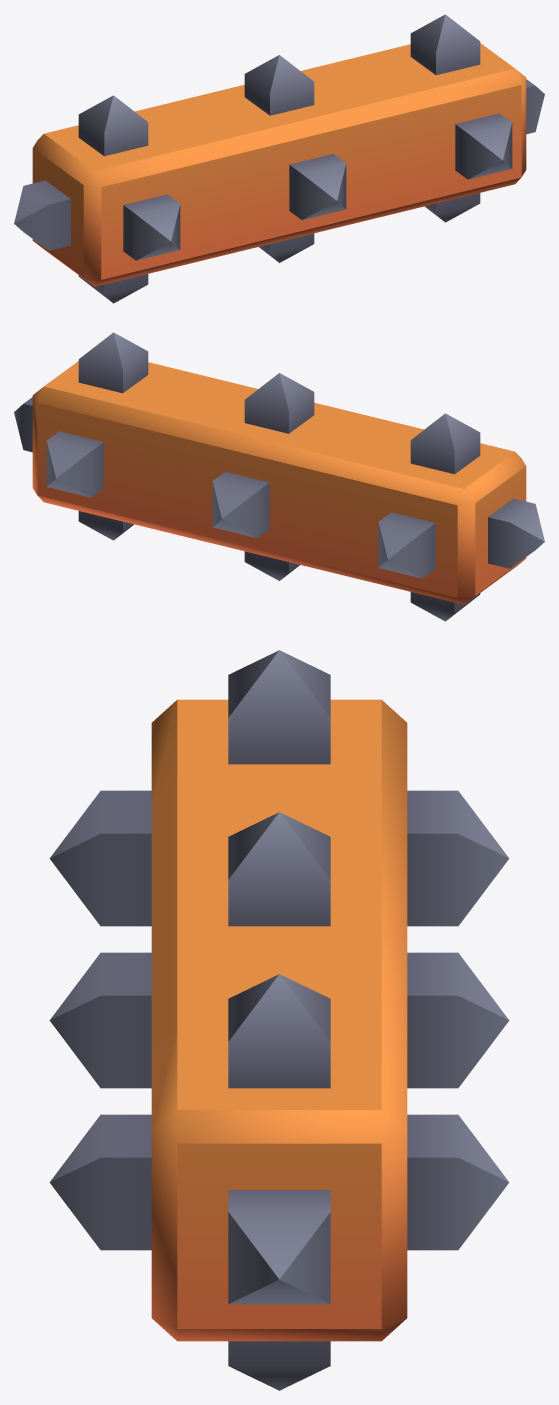
The model's file is spike-block-wide.glb.
The picture shows the model from 3 angles, top to bottom: view 1: azimuth 30°, elevation 25°; view 2: azimuth 150°, elevation 25°; view 3: azimuth 270°, elevation 25°; orthographic projection. The views are drawn at different scales.
Visible parts, largest first — view 1: spike-block-wide; view 2: spike-block-wide; view 3: spike-block-wide.
Part boxes in pixels (x1=…): spike-block-wide: x1=14, y1=14, x2=544, y2=303; spike-block-wide: x1=14, y1=332, x2=544, y2=621; spike-block-wide: x1=49, y1=650, x2=509, y2=1390.
Size of the model in its own units: 2.4 by 0.9 by 0.9.
